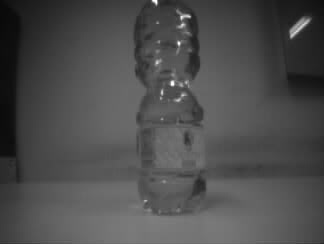Bottle: (133, 2, 209, 218)
